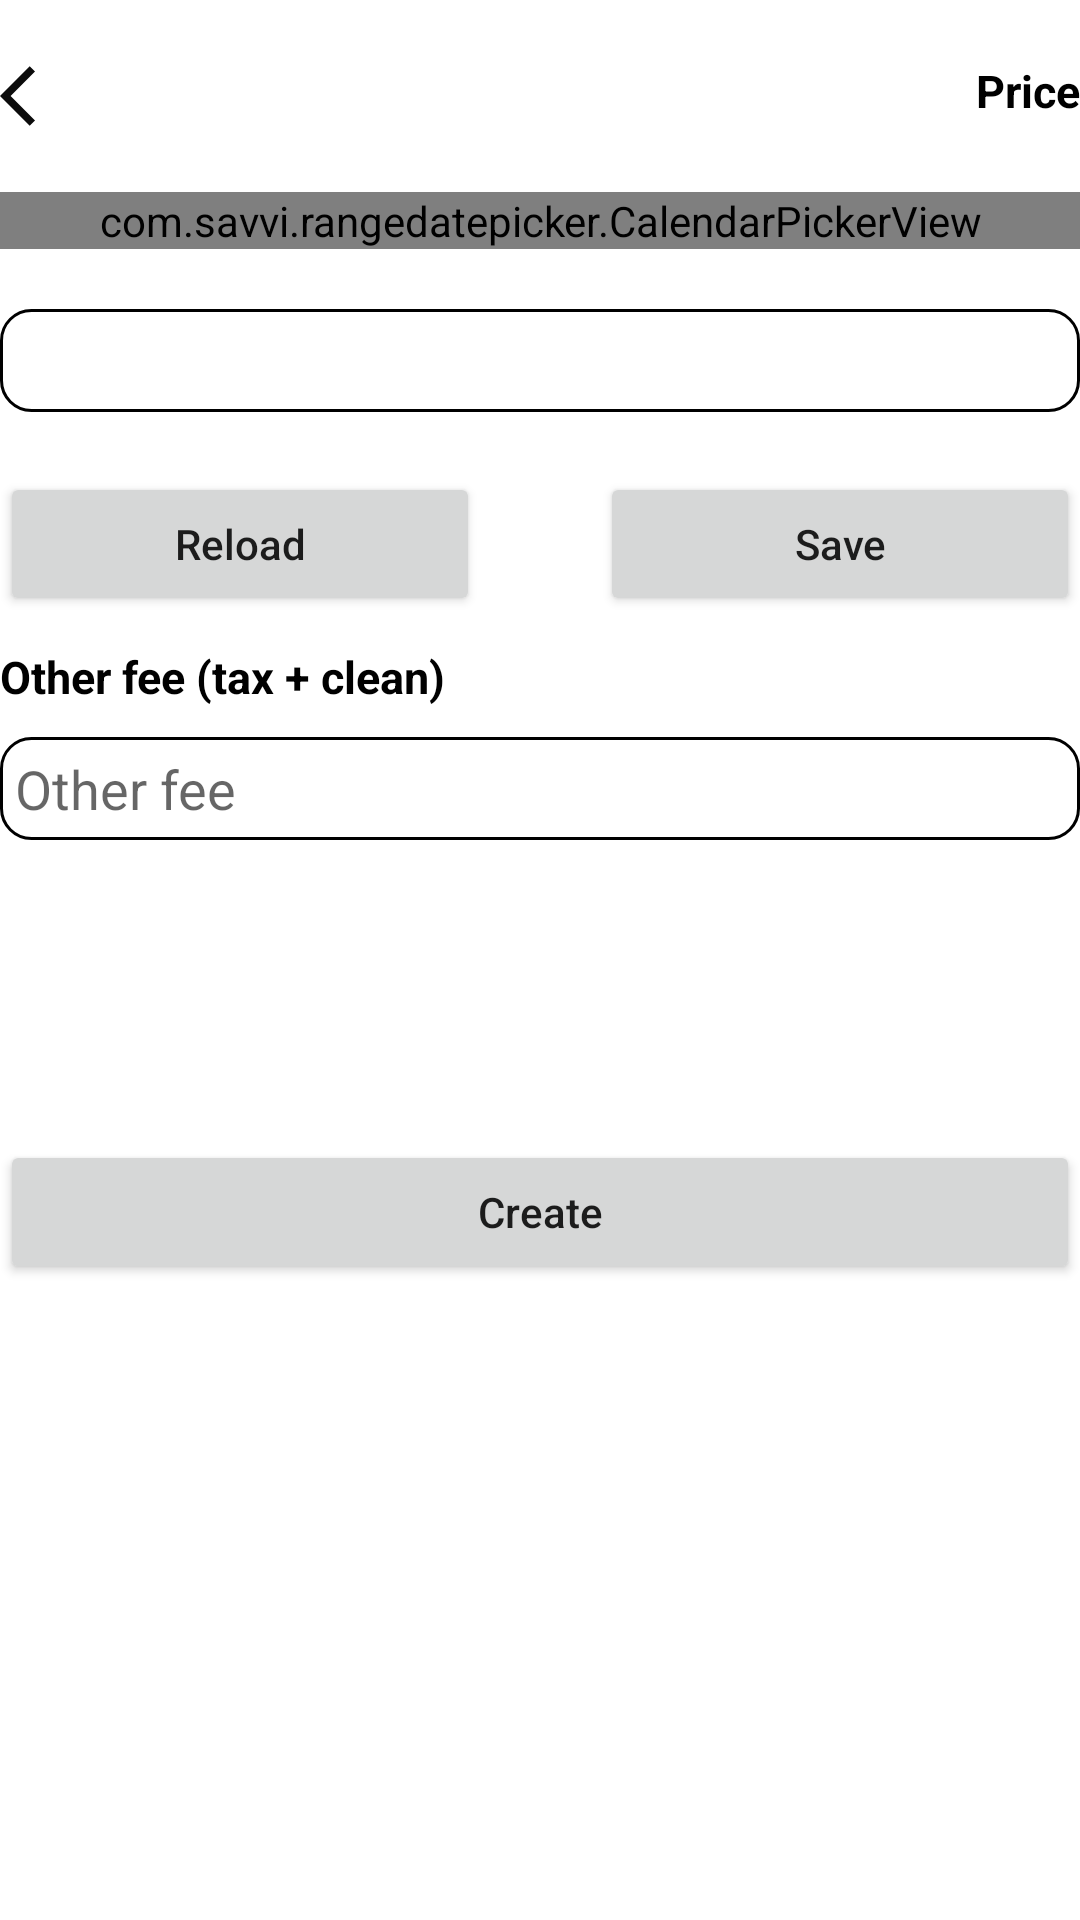

Screen size 1080px×1920px. Icon name, then its center in pixels as (x=x, y=y):
back: (x=17, y=96)
